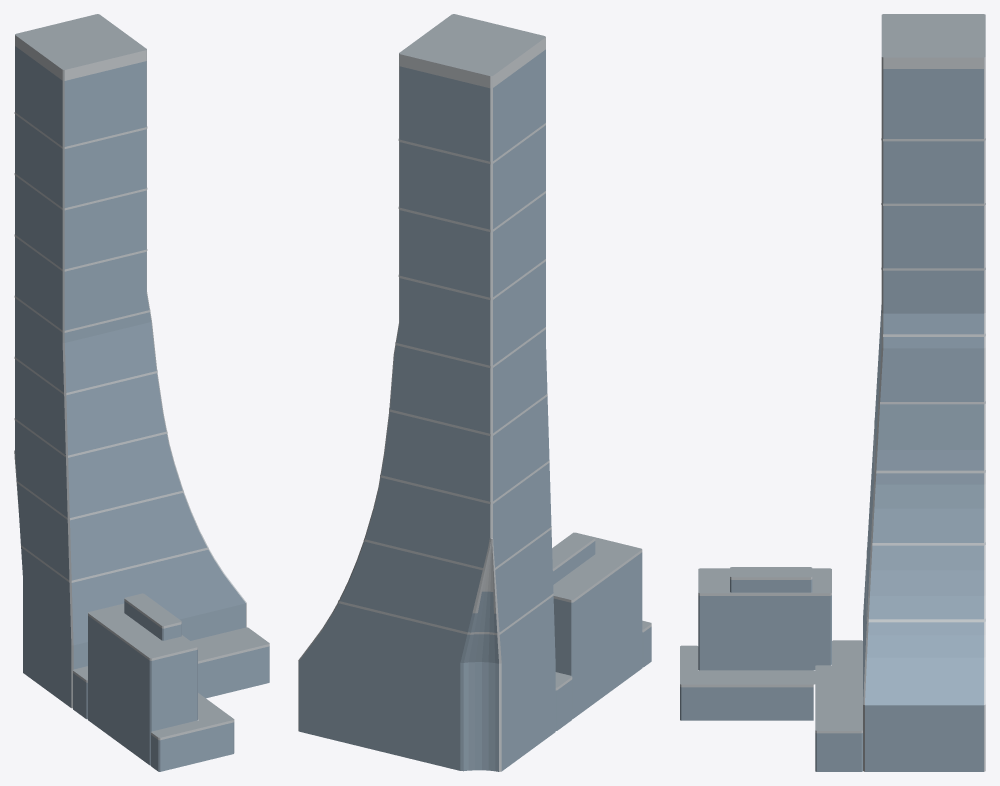
The model's file is sea-rainier-square-tower.glb.
3 renders of one model, left to right at view 1: azimuth 30°, elevation 25°; view 2: azimuth 150°, elevation 25°; view 3: azimuth 270°, elevation 25°, orthographic. The views are drawn at different scales.
Visible parts, largest first — view 1: Rainier Square Tower; view 2: Rainier Square Tower; view 3: Rainier Square Tower.
Part boxes in pixels (box(x1,y1,x2,y2)): Rainier Square Tower: box(14, 14, 269, 771); Rainier Square Tower: box(298, 14, 651, 771); Rainier Square Tower: box(680, 14, 985, 771).
Size of the model in its own units: 75.46 by 260 by 108.
